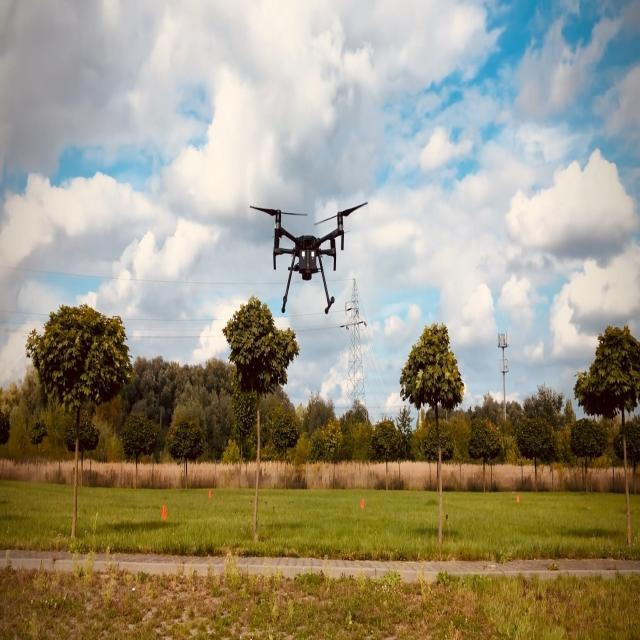drone: (249, 200, 368, 316)
